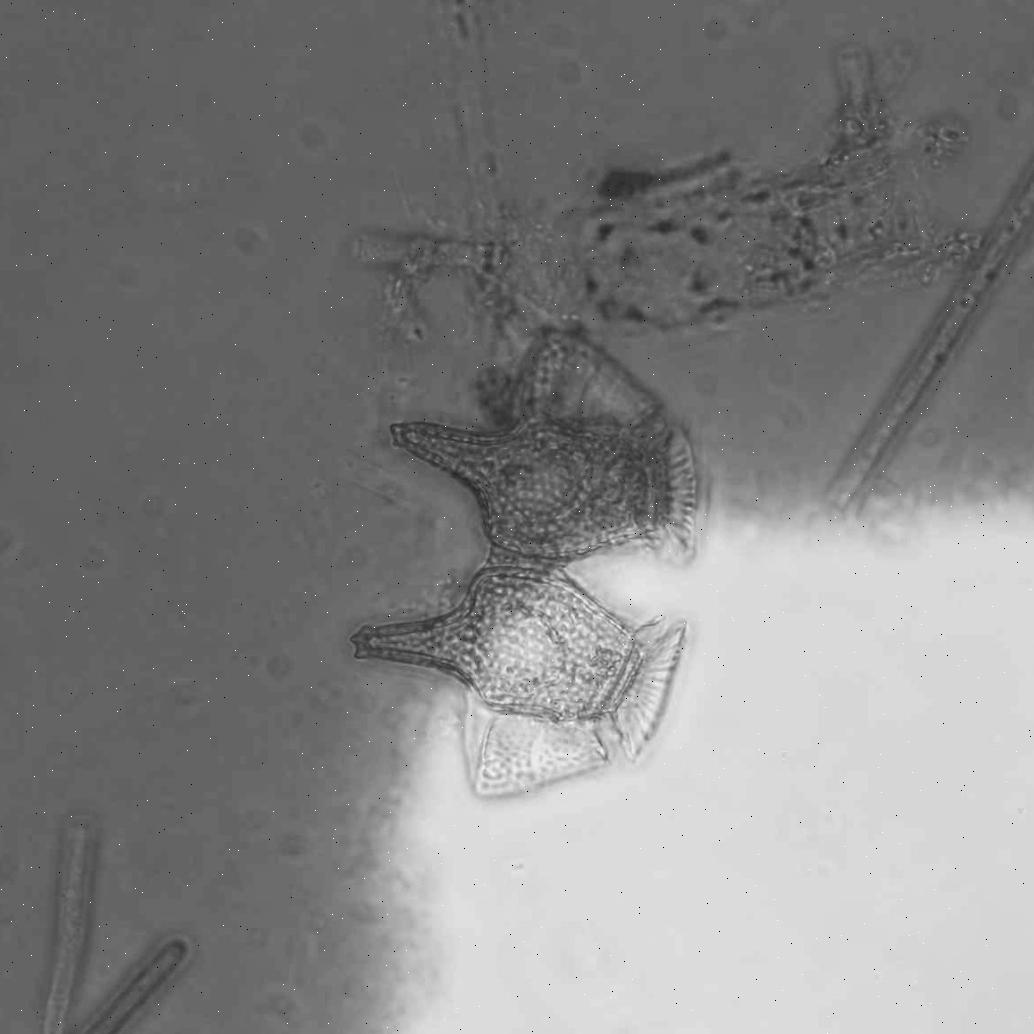dinophysis_caudata: (347, 566, 687, 799), (391, 327, 697, 565)
